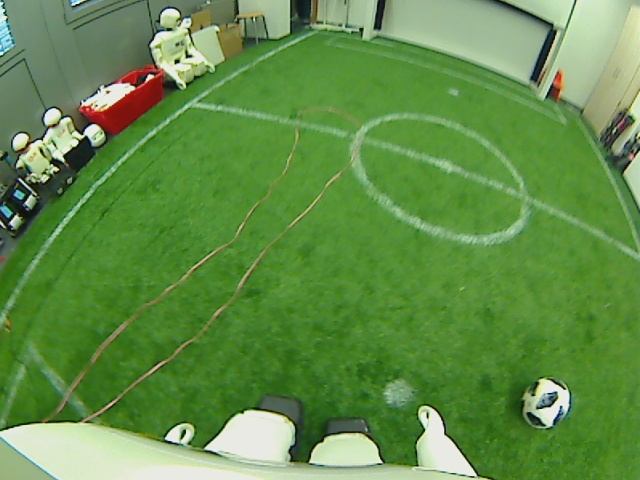ball: (518, 376, 573, 431)
